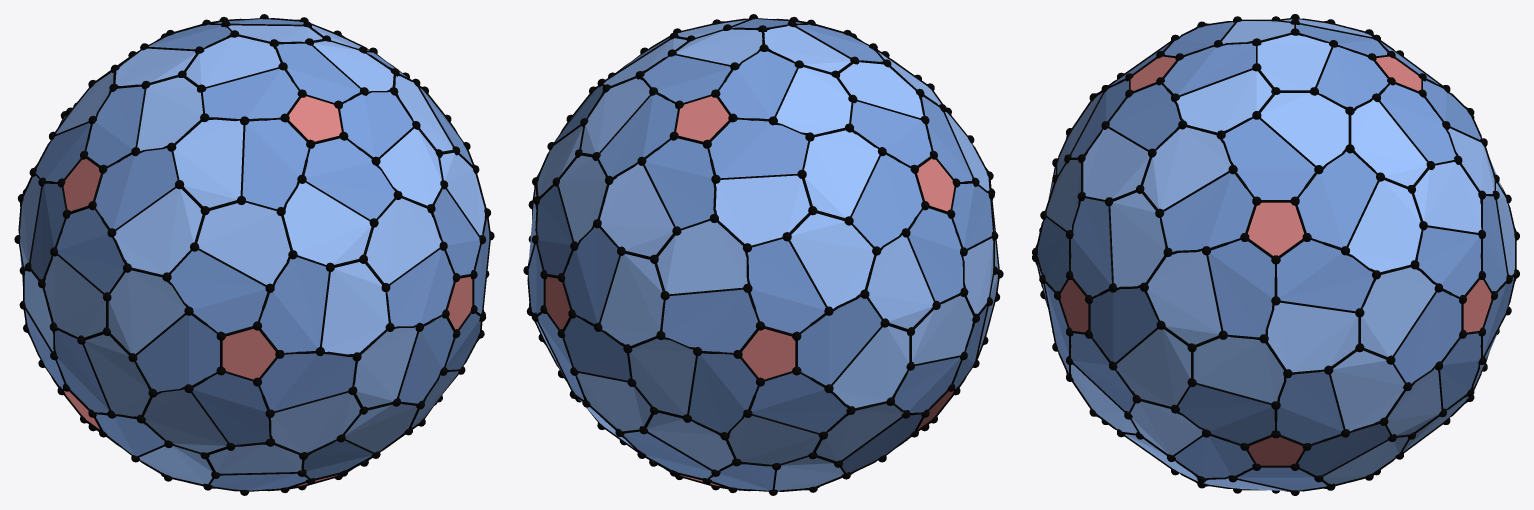
The model's file is radome.gltf.
3 renders of one model, left to right at view 1: azimuth 30°, elevation 25°; view 2: azimuth 150°, elevation 25°; view 3: azimuth 270°, elevation 25°, orthographic.
Parts seen in each view (by area): view 1: main_1064, main_282, main_214, main_44, main_595, main_855, main_99, main_42, main_731, main_148, main_304, main_62 (+104 smaller); view 2: main_324, main_307, main_899, main_834, main_544, main_367, main_1052, main_315, main_1046, main_803, main_785, main_793 (+104 smaller); view 3: main_874, main_783, main_564, main_931, main_302, main_524, main_757, main_568, main_337, main_280, main_769, main_779 (+102 smaller).
Part boxes in pixels (x1,y1,x2,y2): main_1064: [199, 213, 280, 284]; main_282: [293, 182, 369, 252]; main_214: [175, 123, 243, 197]; main_44: [115, 188, 178, 273]; main_595: [322, 271, 386, 349]; main_855: [128, 271, 184, 353]; main_99: [386, 199, 439, 283]; main_42: [137, 87, 200, 149]; main_731: [273, 392, 349, 452]; main_148: [222, 329, 275, 379]; main_304: [360, 329, 417, 399]; main_62: [144, 391, 227, 444]; main_324: [718, 175, 798, 243]; main_307: [790, 237, 873, 306]; main_899: [668, 222, 745, 294]; main_834: [812, 138, 879, 216]; main_544: [600, 165, 673, 230]; main_367: [600, 255, 658, 334]; main_1052: [867, 237, 933, 304]; main_315: [833, 327, 889, 400]; main_1046: [631, 349, 695, 414]; main_803: [776, 68, 846, 127]; main_785: [742, 329, 795, 379]; main_793: [737, 415, 818, 460]; main_874: [1276, 302, 1355, 370]; main_783: [1148, 253, 1221, 332]; main_564: [1348, 181, 1412, 263]; main_931: [1161, 128, 1229, 209]; main_302: [1196, 341, 1274, 403]; main_524: [1261, 111, 1347, 165]; main_757: [1377, 276, 1435, 355]; main_568: [1110, 204, 1164, 285]; main_337: [1331, 371, 1403, 429]; main_280: [1116, 329, 1174, 405]; main_769: [1248, 202, 1303, 255]; main_779: [1352, 101, 1426, 164].
Bounding box in the file's own units: 108 × 108 × 108.
